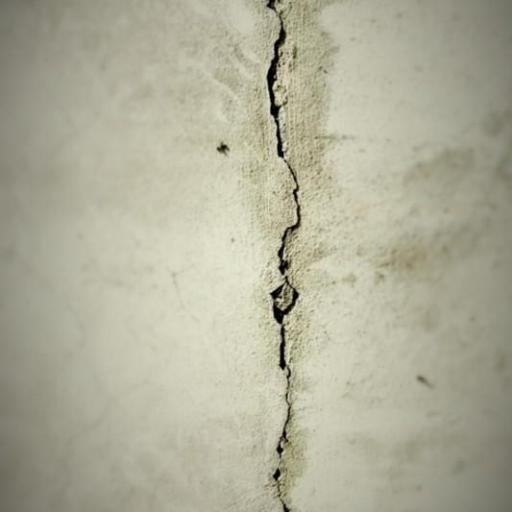spalling: (266, 0, 300, 231), (271, 281, 295, 372), (276, 369, 291, 457), (277, 487, 291, 512), (278, 231, 286, 266), (272, 469, 280, 486)
